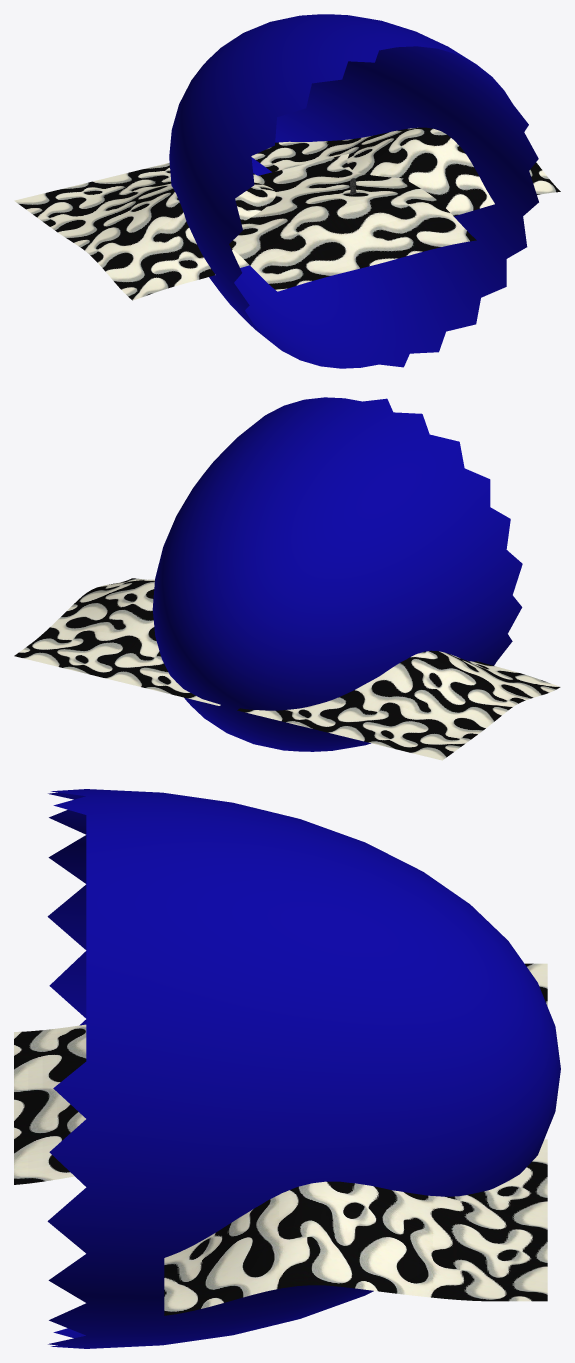
The model's file is IntroScene.glb.
3 renders of one model, top to bottom at view 1: azimuth 30°, elevation 25°; view 2: azimuth 150°, elevation 25°; view 3: azimuth 270°, elevation 25°, orthographic. The views are drawn at different scales.
Visible parts, largest first — view 1: BG, FLOOR, main.001, main.004; view 2: BG, main.001, main.004; view 3: BG, main.004, FLOOR.
Boxes of the visible parts, <box> form: BG: <box>169,14,538,368</box>; FLOOR: <box>229,153,476,291</box>; main.001: <box>14,163,275,300</box>; main.004: <box>251,127,560,216</box>; BG: <box>152,397,522,751</box>; main.001: <box>237,650,560,760</box>; main.004: <box>14,578,220,705</box>; BG: <box>47,789,560,1348</box>; main.004: <box>164,1139,547,1315</box>; FLOOR: <box>14,1024,86,1184</box>.
Size of the model in its own units: 22.09 by 15.48 by 15.11.
Materials: 4 (2 with a texture image).
